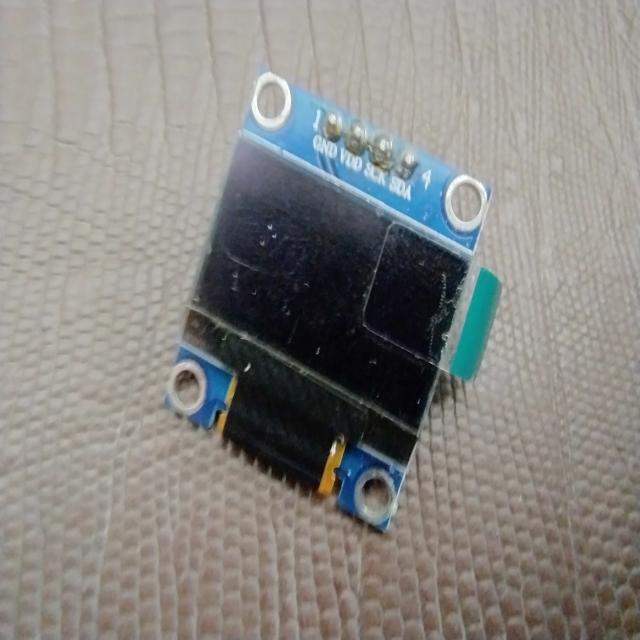oled: (163, 61, 510, 534)
